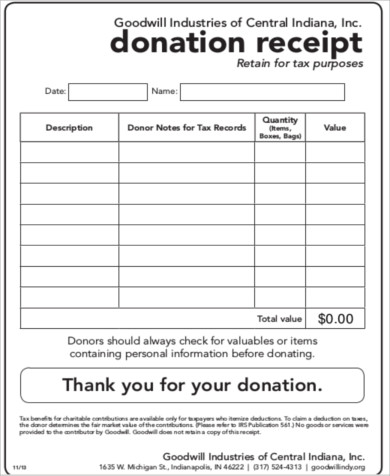textbox: (179, 79, 348, 104), (116, 138, 258, 166), (114, 220, 256, 248), (115, 283, 257, 311), (114, 262, 258, 289), (114, 242, 257, 269), (116, 180, 258, 207), (115, 201, 257, 228), (115, 160, 257, 186), (18, 179, 121, 208), (18, 243, 123, 271), (16, 263, 123, 290), (18, 158, 121, 186), (15, 138, 121, 165), (16, 201, 122, 228), (16, 284, 122, 311), (16, 222, 122, 248), (66, 80, 152, 103), (302, 241, 368, 269), (303, 283, 368, 311), (302, 180, 369, 207), (303, 201, 369, 228), (302, 221, 368, 248), (302, 159, 367, 186), (303, 262, 368, 289), (302, 138, 368, 164), (251, 219, 308, 249), (252, 179, 308, 208), (251, 200, 308, 228), (251, 242, 309, 269), (251, 263, 309, 290), (252, 138, 309, 165), (252, 283, 308, 310), (252, 160, 309, 186)
